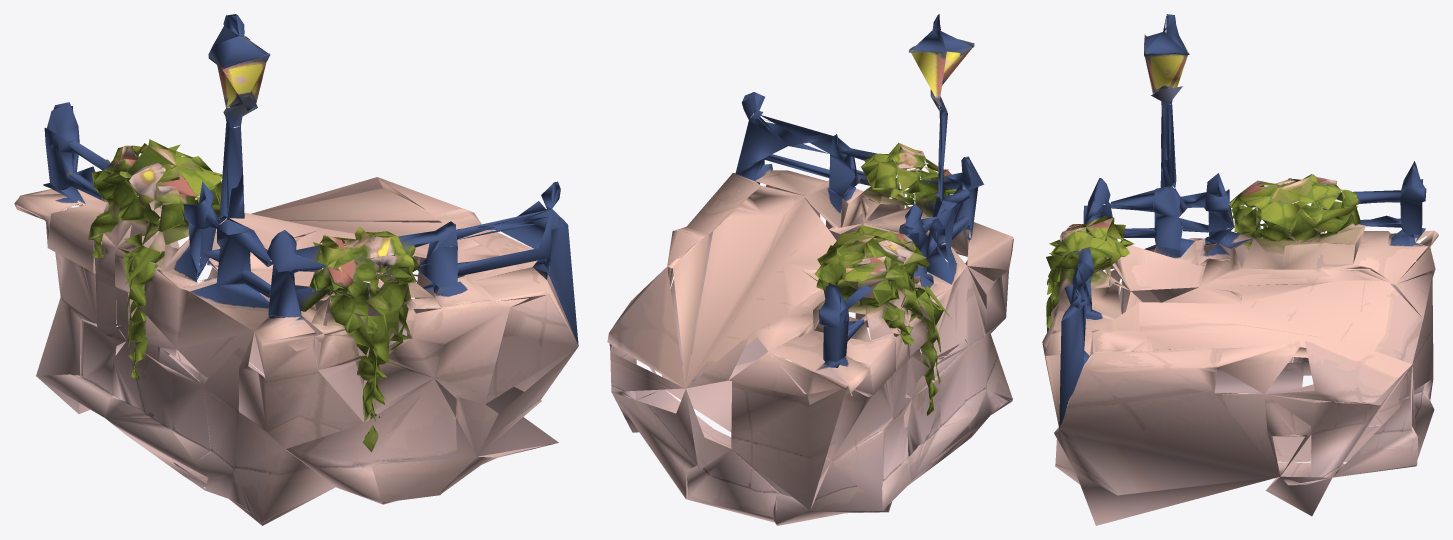
Rendered from M-13_02_embankment_corner.glb.
3 views of the same model, side by side, from view 1: azimuth 30°, elevation 25°; view 2: azimuth 150°, elevation 25°; view 3: azimuth 270°, elevation 25° (orthographic). The views are drawn at different scales.
Visible parts, largest first — view 1: embankment_corner; view 2: embankment_corner; view 3: embankment_corner.
Part boxes in pixels (<box>): embankment_corner: <box>14,14,578,525</box>; embankment_corner: <box>607,14,1013,525</box>; embankment_corner: <box>1042,14,1438,525</box>.
Bounding box in the file's own units: 5.39 × 6.96 × 6.24.
1 material, 1 textured.
